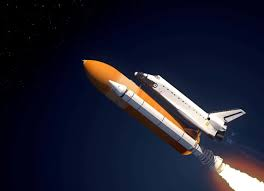ten_lua: (132, 62, 244, 148)
